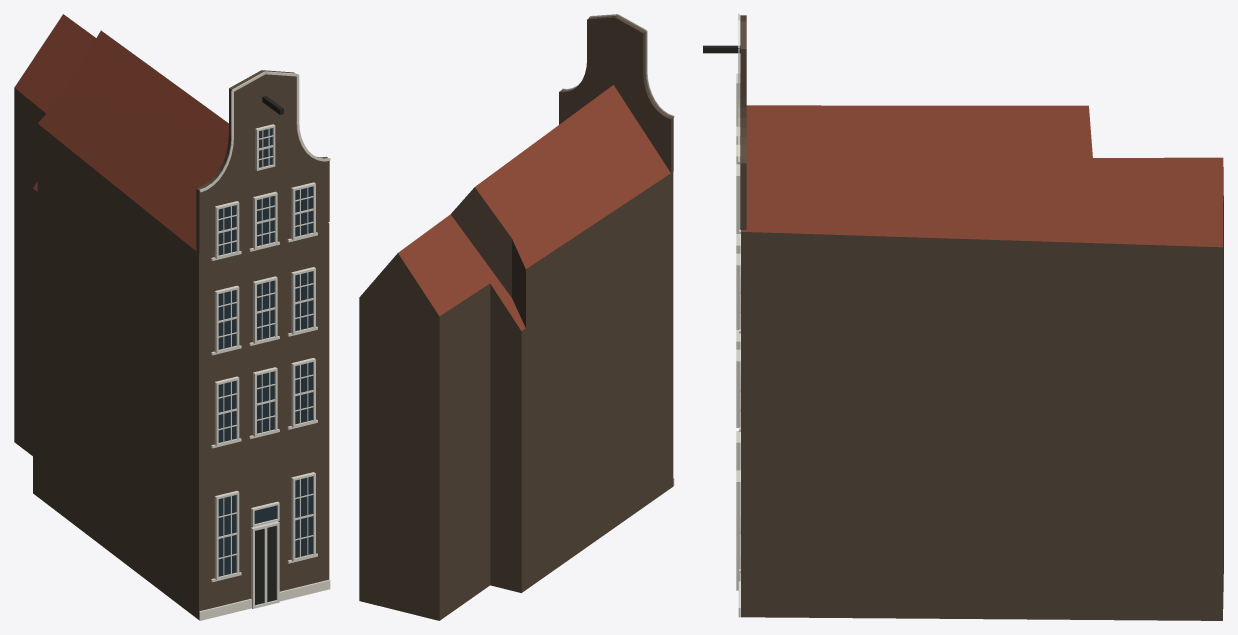
The picture shows the model from 3 angles, left to right: view 1: azimuth 30°, elevation 25°; view 2: azimuth 150°, elevation 25°; view 3: azimuth 270°, elevation 25°; orthographic projection. The views are drawn at different scales.
Visible parts, largest first — view 1: spec-0363100012171145; view 2: spec-0363100012171145; view 3: spec-0363100012171145.
Boxes of the visible parts, box(x1,y1,x2,y2) form: spec-0363100012171145: box(14, 14, 330, 620); spec-0363100012171145: box(359, 14, 674, 620); spec-0363100012171145: box(703, 14, 1223, 620).
Bounding box in the file's own units: 4.86 × 18 × 15.07.
